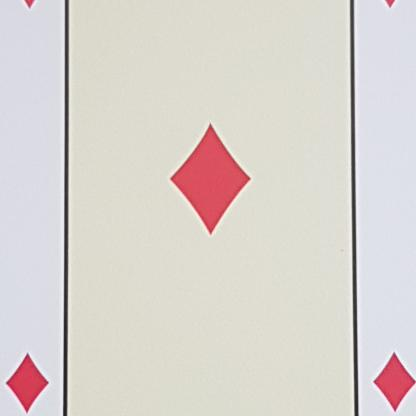Ad: (0, 341, 65, 415), (357, 334, 415, 415)
